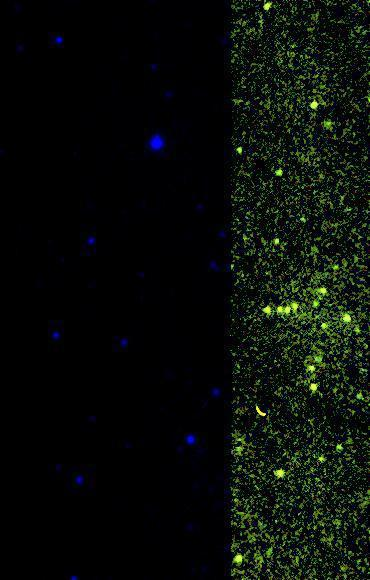star: (331, 552, 361, 580)
